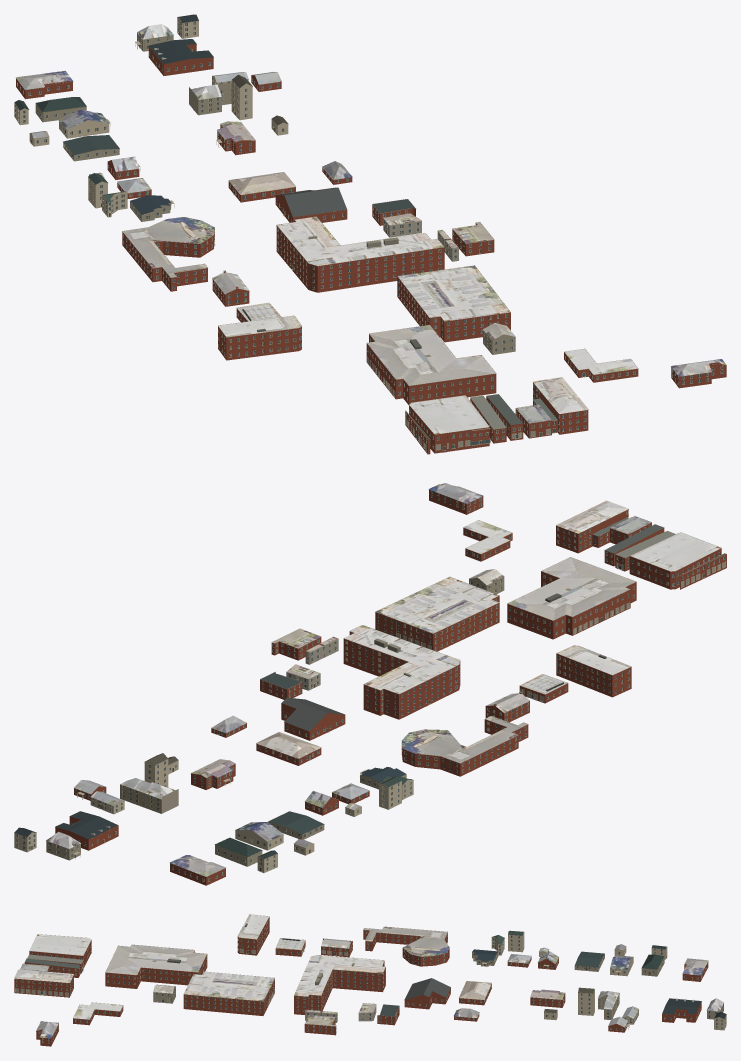
3 views of the same model, one above another, from view 1: azimuth 30°, elevation 25°; view 2: azimuth 150°, elevation 25°; view 3: azimuth 270°, elevation 25° (orthographic). The views are drawn at different scales.
Parts seen in each view (by area): view 1: 0_-1_451755569_0, 0_-1_451755569_1, 0_-1_625342609_23, 0_-1_599833470_7; view 2: 0_-1_451755569_0, 0_-1_451755569_1, 0_-1_625342609_23, 0_-1_599833470_7, 0_-1_-6782_188; view 3: 0_-1_451755569_0, 0_-1_451755569_1, 0_-1_625342609_23, 0_-1_599833470_7, 0_-1_-6782_188.
Part boxes in pixels (x1,y1,x2,y2): 0_-1_451755569_0: (14, 14, 726, 454); 0_-1_451755569_1: (16, 24, 726, 443); 0_-1_625342609_23: (14, 17, 288, 216); 0_-1_599833470_7: (35, 33, 515, 354); 0_-1_451755569_0: (14, 489, 726, 885); 0_-1_451755569_1: (31, 483, 720, 876); 0_-1_625342609_23: (14, 759, 413, 872); 0_-1_599833470_7: (46, 577, 504, 866); 0_-1_-6782_188: (286, 639, 338, 690); 0_-1_451755569_0: (14, 914, 726, 1046); 0_-1_451755569_1: (14, 914, 723, 1038); 0_-1_625342609_23: (491, 932, 726, 1030); 0_-1_599833470_7: (153, 952, 723, 1019); 0_-1_-6782_188: (305, 1005, 376, 1022).
Size of the model in its own units: 209 by 24.25 by 521.
Materials: 15 (1 with a texture image).
